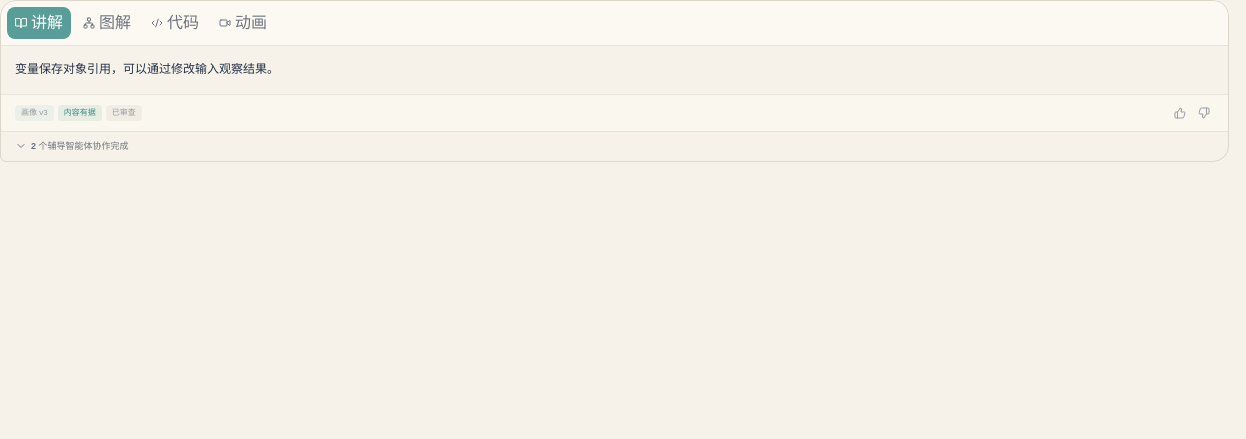
Test: TutorRichResponse › renders comparison with its own visual grammar
Click the button "图解" at (107, 23), box [75,7,139,39]
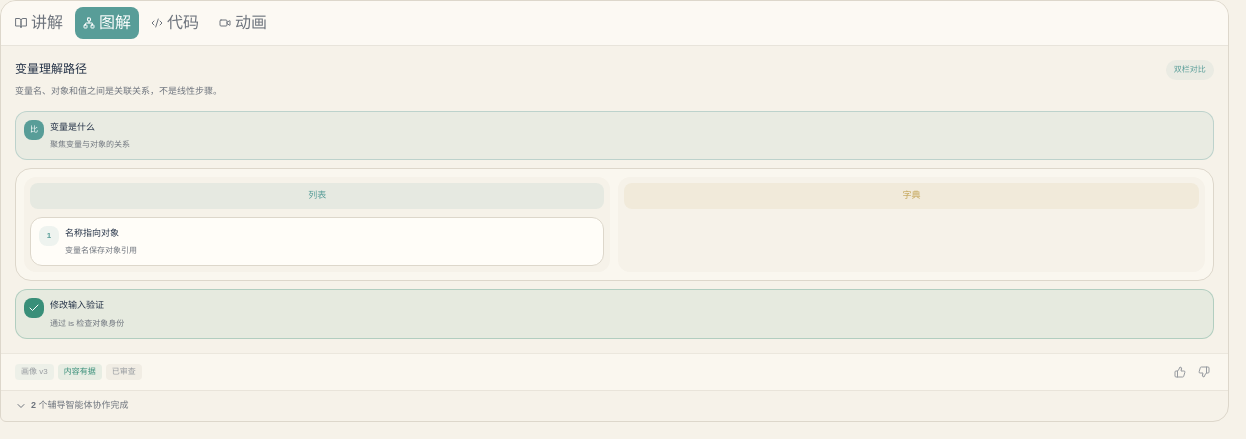
Now the element named "双栏对比图" is shown, box [15,111,1214,339]
Now the text "双栏对比" is shown, box [1166,60,1214,80]
